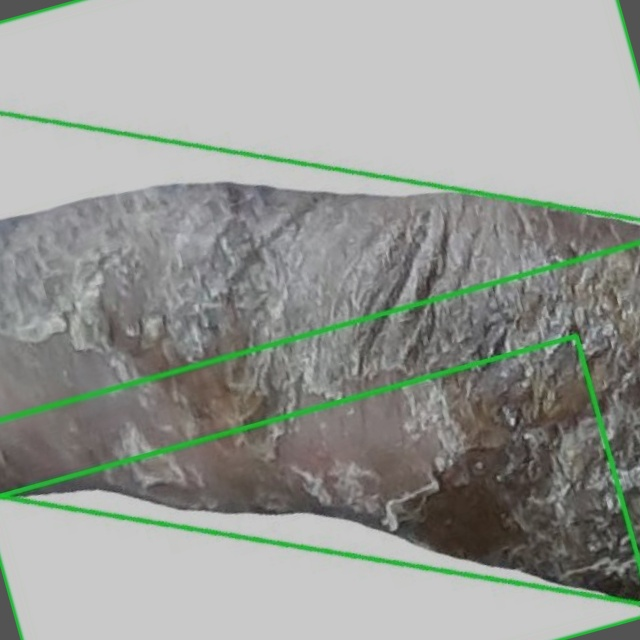Eczema: (0, 113, 639, 567), (0, 0, 639, 419), (0, 335, 639, 639)
